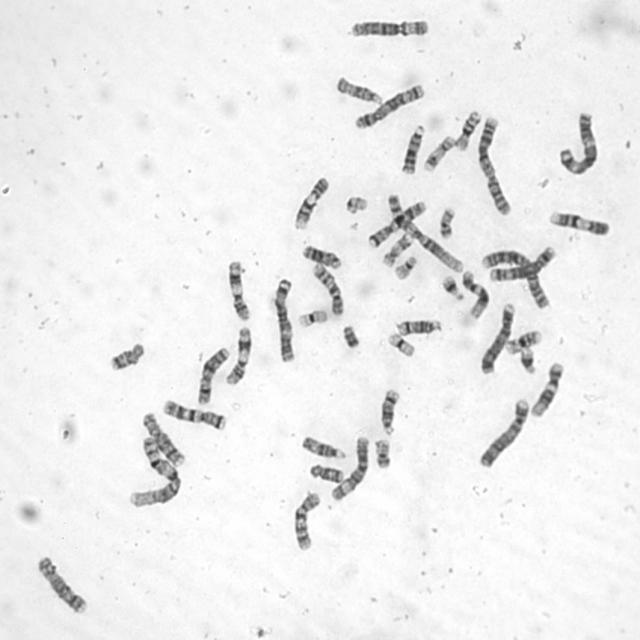A1: (388, 192, 466, 274), (129, 435, 182, 510)
A2: (481, 250, 552, 310), (477, 115, 512, 218)
A3: (557, 112, 598, 178), (272, 277, 296, 363)
B4: (478, 399, 528, 468), (479, 301, 516, 375)
B5: (351, 81, 426, 132), (488, 245, 556, 283)
C10: (310, 260, 346, 317), (291, 490, 321, 552)
C11: (224, 326, 253, 386), (226, 259, 252, 322)
C12: (530, 359, 565, 418), (461, 269, 491, 320)
C6: (330, 434, 370, 502), (348, 20, 435, 39)
C7: (366, 199, 429, 250), (162, 398, 227, 431)
C8: (36, 552, 90, 616), (141, 412, 186, 469)
C9: (292, 175, 329, 233), (548, 208, 612, 238)
D13: (399, 122, 426, 176), (302, 243, 342, 269)
D14: (378, 387, 402, 437), (395, 319, 442, 336)
D15: (334, 74, 385, 107), (300, 435, 348, 460)
E16: (455, 110, 482, 152), (505, 330, 542, 357)
E17: (423, 134, 456, 171), (381, 232, 414, 268)
E18: (105, 341, 146, 375), (308, 463, 344, 484)
F19: (388, 331, 417, 358), (296, 308, 327, 329)
F20: (438, 205, 457, 240), (374, 437, 392, 468)
G21: (440, 273, 464, 302), (520, 346, 536, 374)
G22: (393, 254, 420, 280), (345, 192, 370, 217)
X: (195, 346, 230, 406)
Y: (339, 324, 362, 350)
